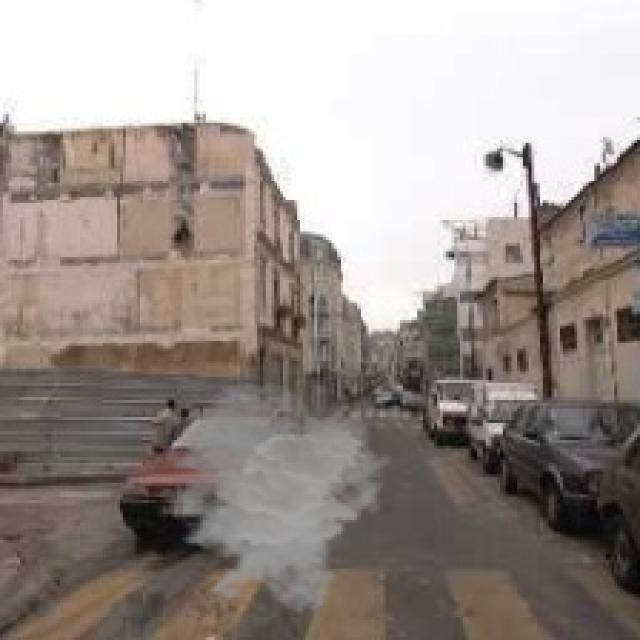Smoke: (146, 380, 394, 614)
